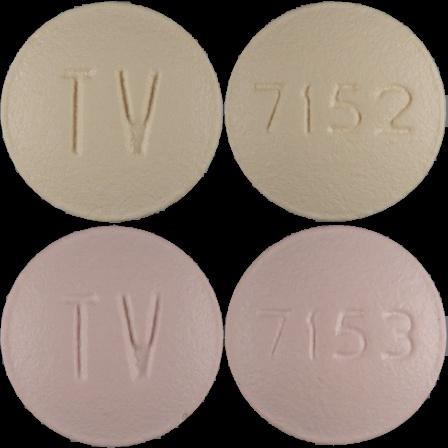0093-7152: (0, 0, 224, 224)
